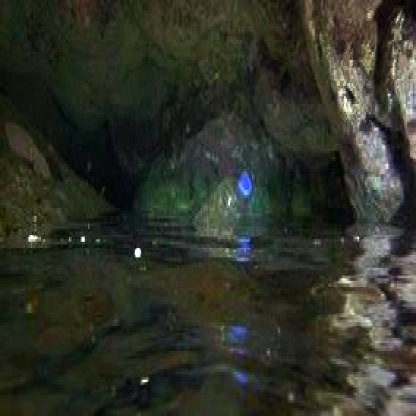pbottle: (190, 166, 255, 242)
